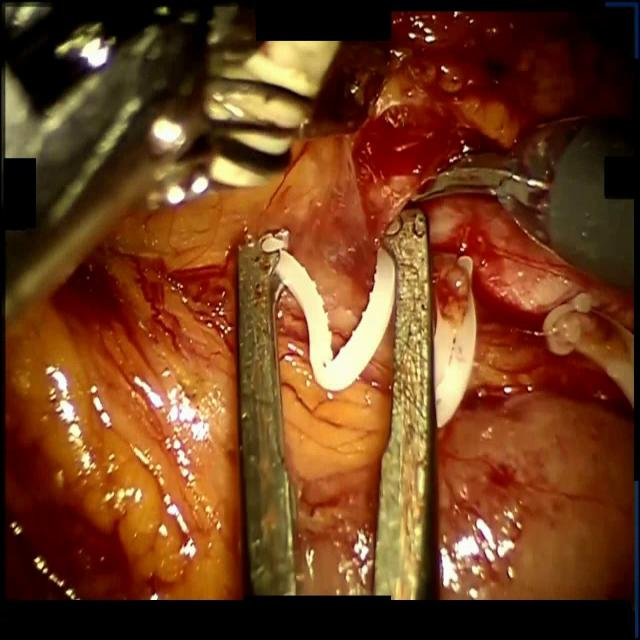surgical-area: (6, 9, 634, 601)
surgical-tool: (410, 113, 634, 284), (372, 208, 434, 601), (238, 233, 297, 596)
